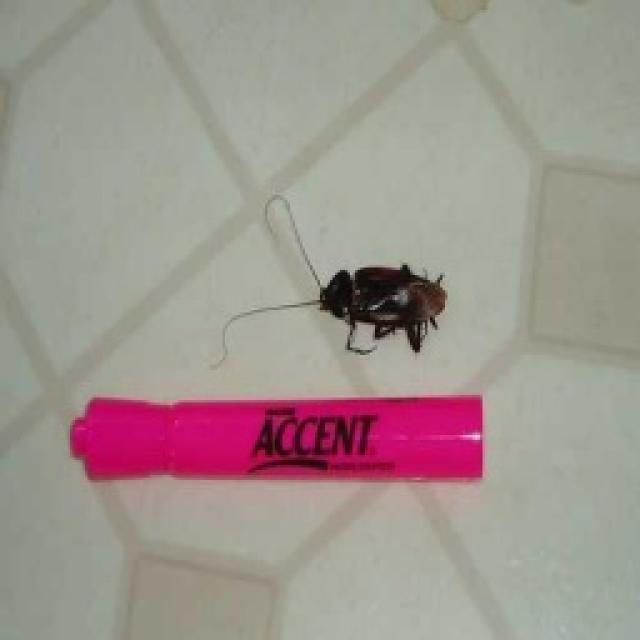cockroach: (206, 190, 453, 370)
